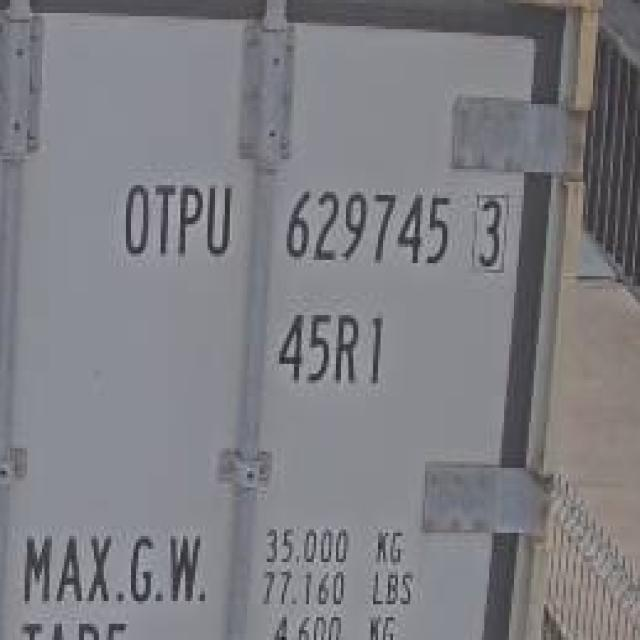dv: (463, 180, 511, 278)
owner: (118, 172, 239, 266)
serial: (278, 175, 453, 277)
size: (271, 302, 394, 392)
